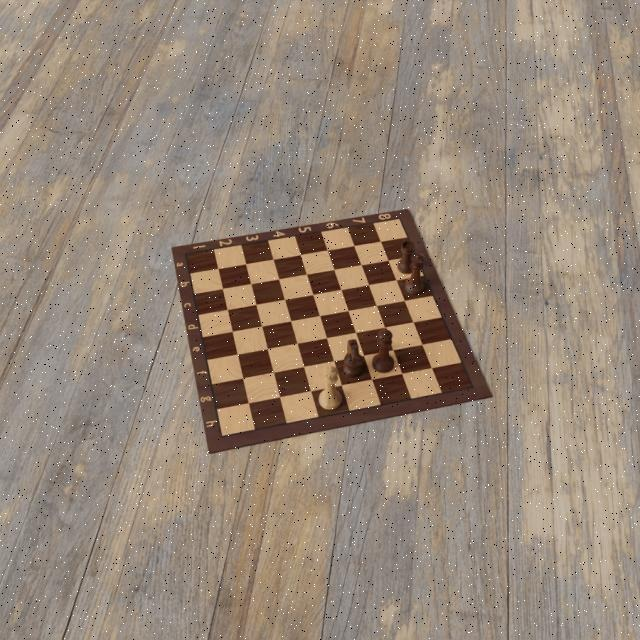black-king: (372, 326, 396, 373)
black-knight: (342, 337, 365, 378)
black-queen: (402, 252, 425, 296)
black-rook: (397, 239, 415, 275)
white-king: (317, 361, 342, 411)
